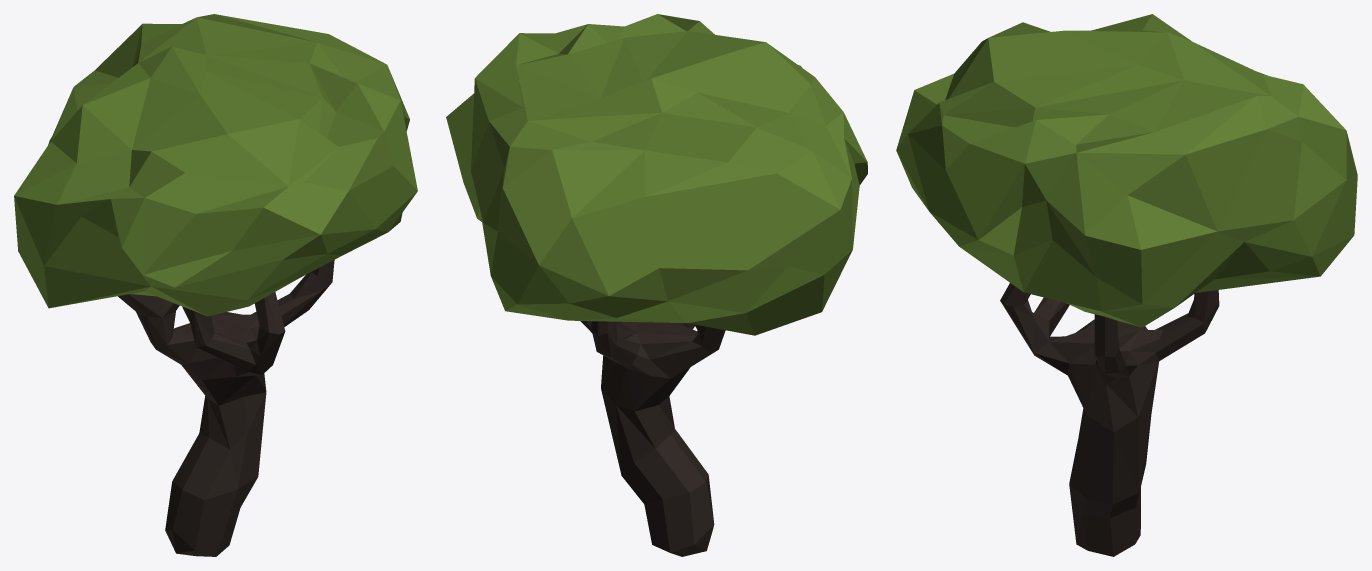
Rendered from tree_01.glb.
3 views of the same model, side by side, from view 1: azimuth 30°, elevation 25°; view 2: azimuth 150°, elevation 25°; view 3: azimuth 270°, elevation 25° (orthographic). The views are drawn at different scales.
Parts seen in each view (by area): view 1: Icosphere, Cube; view 2: Icosphere, Cube; view 3: Icosphere, Cube.
Boxes of the visible parts, x1,y1,x2,y2 form: Icosphere: (14, 14, 417, 316); Cube: (118, 260, 334, 556); Icosphere: (446, 14, 867, 335); Cube: (580, 321, 725, 556); Icosphere: (896, 14, 1357, 327); Cube: (1000, 283, 1219, 556).
Size of the model in its own units: 2.15 by 2.6 by 2.09.
